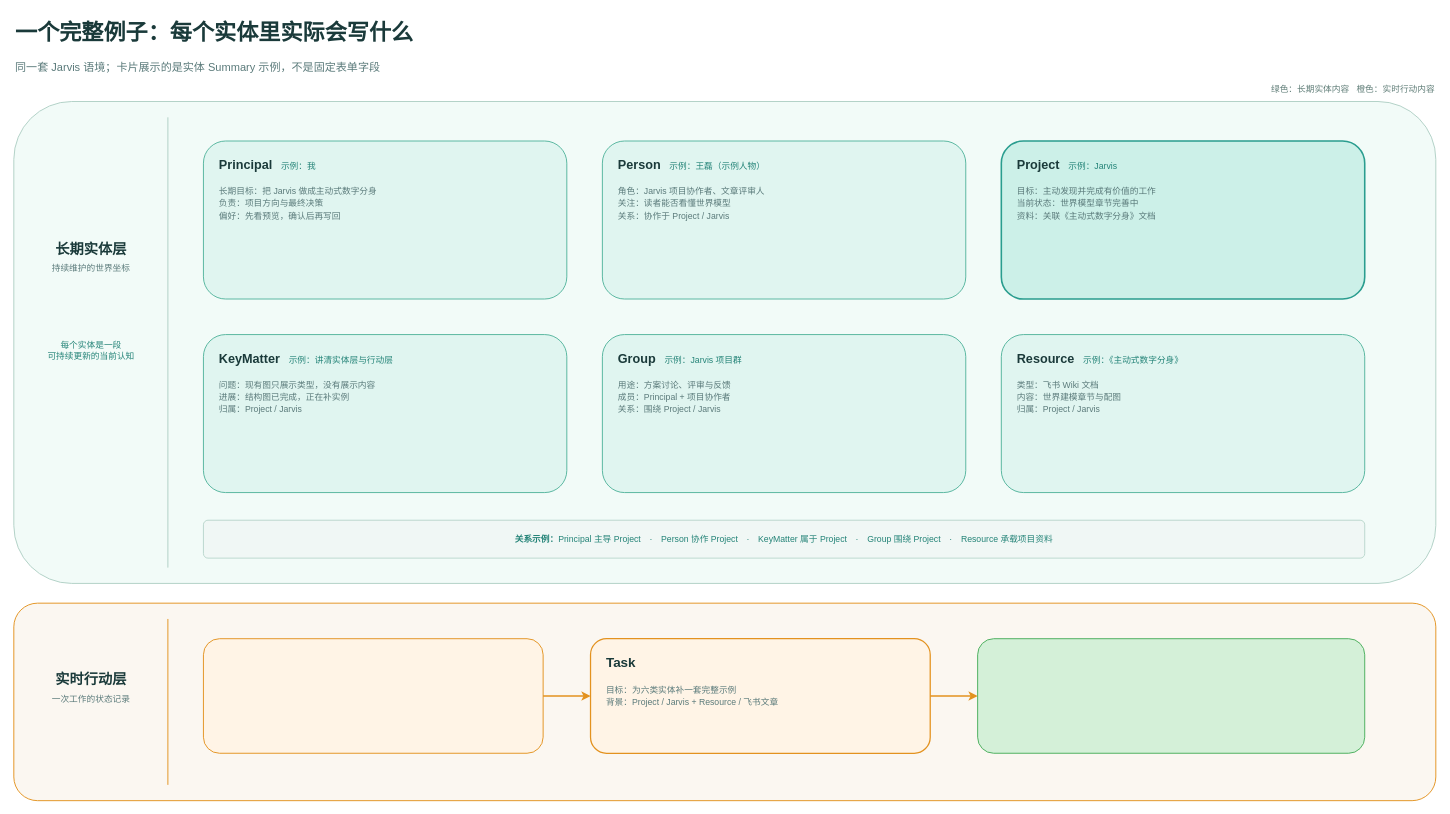
This 1450x814 diagram has some shape labels left out. The centre of each missing label's shape, as x and y in pixels:
"ExecutionRun 过程：读取 v2 → 填写示例 → 生成 v3 结果：本地预览，等待确认后再写回" belongs at point 1171,695.
"Todo 内容：当前图没有展示六类实体的具体内容 关联：KeyMatter / 讲清两层区别" belongs at point 373,695.
